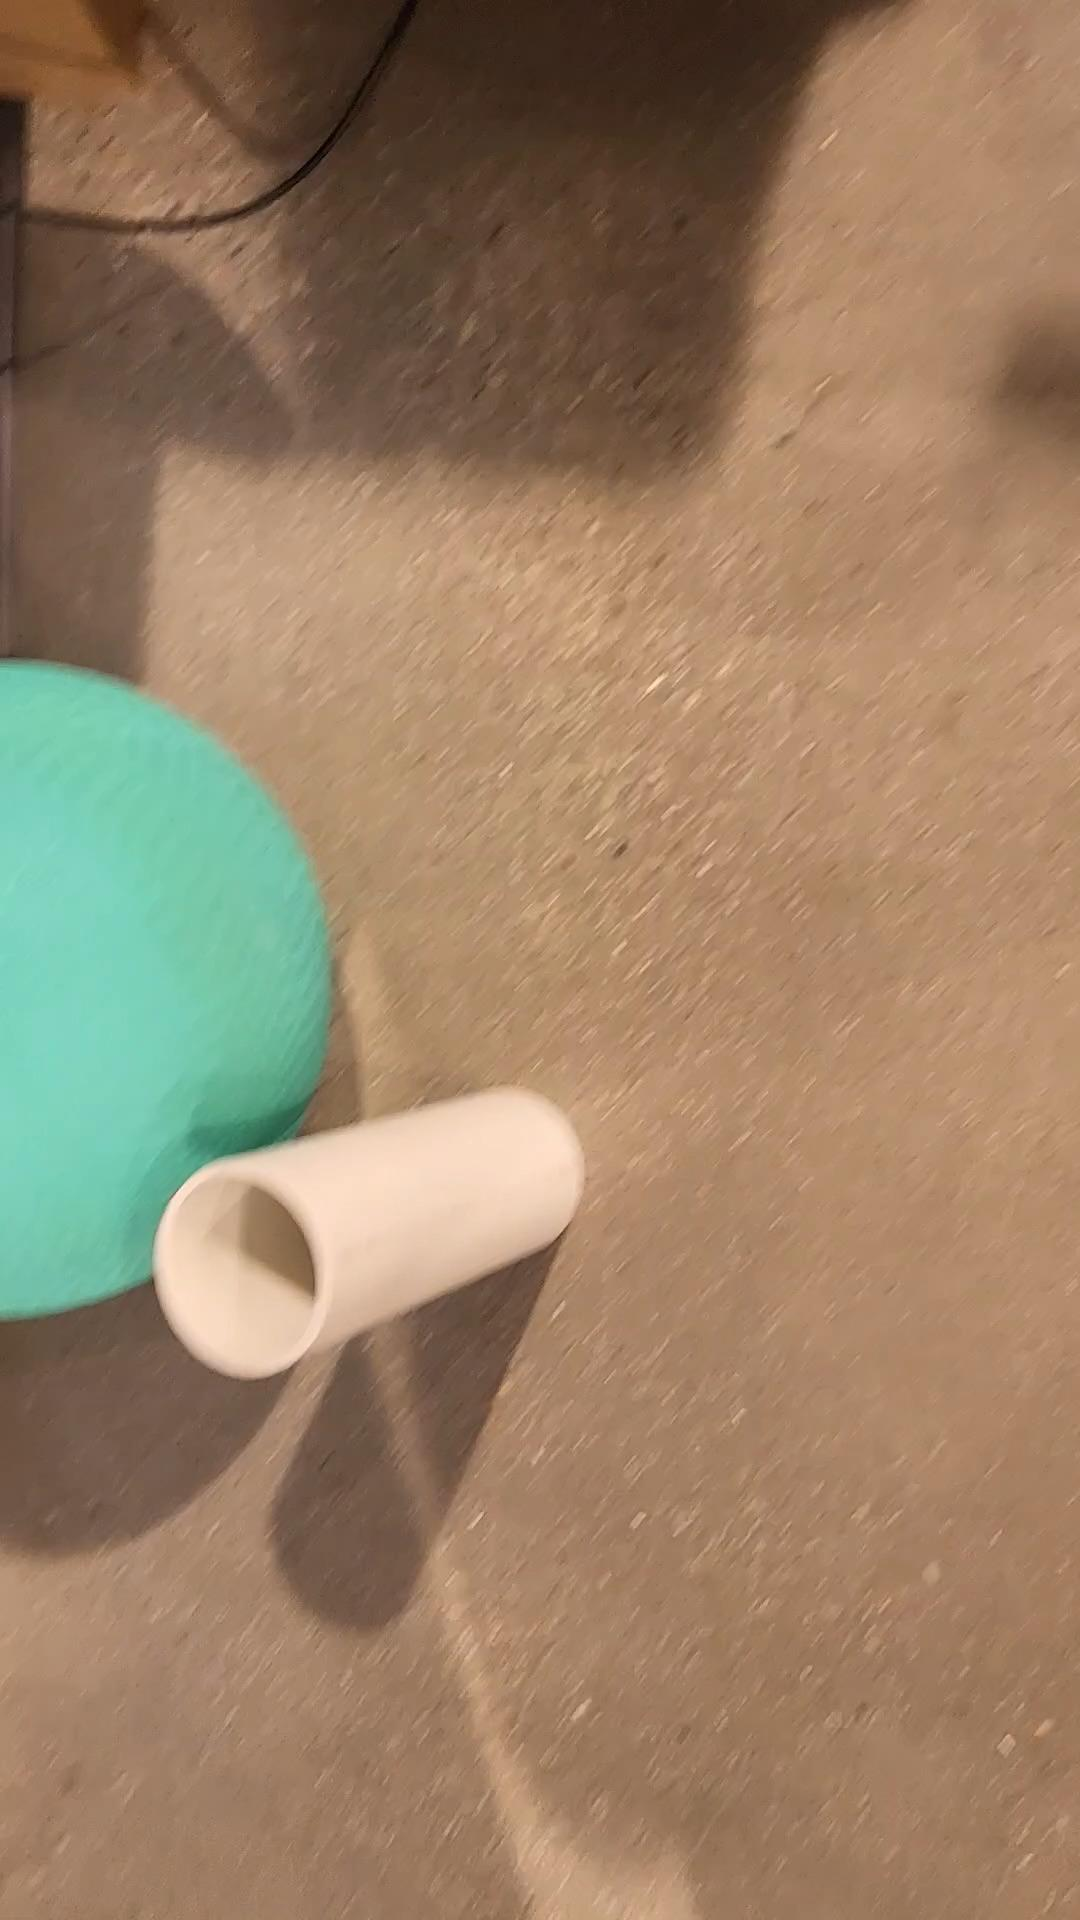algae: (0, 662, 330, 1315)
coral: (162, 1085, 585, 1382)
